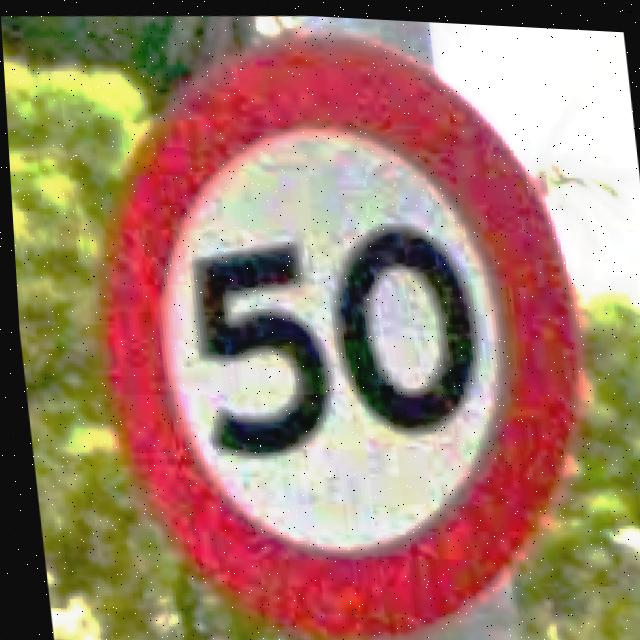max50: (55, 4, 612, 640)
